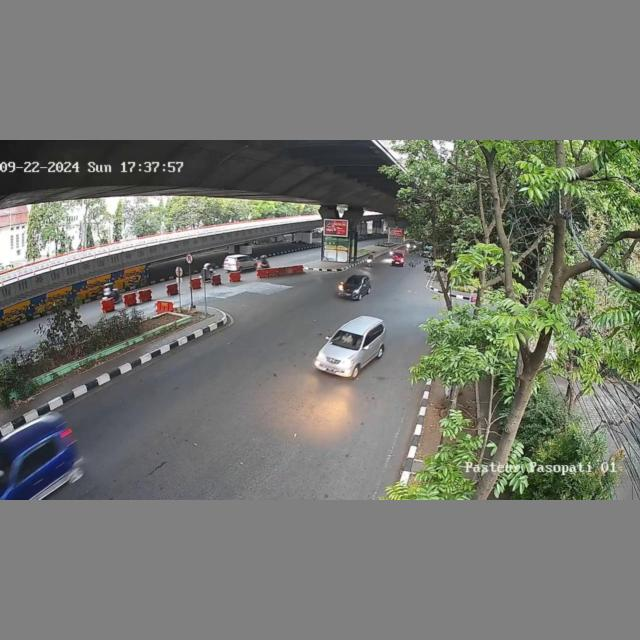windshield: (331, 329, 363, 349), (348, 277, 362, 284)
